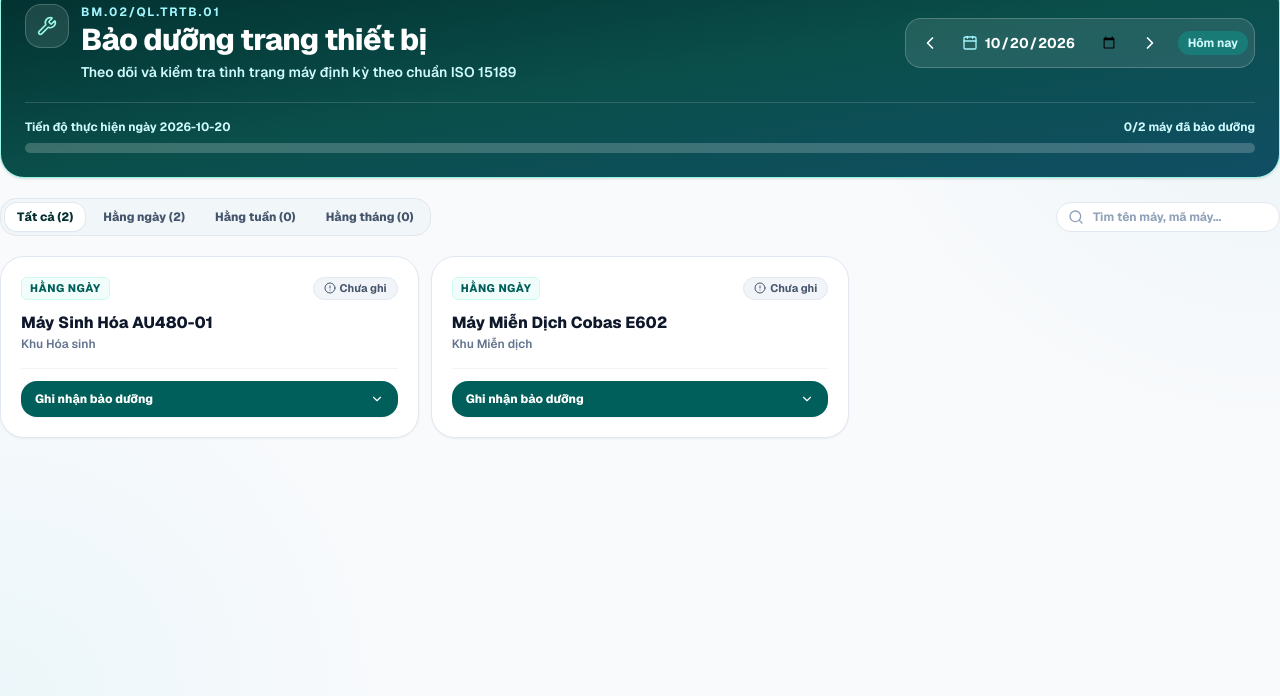
Scenario: TASK 02A.1: Inline Editing & Live Updates for Maintenance (/maintenance) › 5. Strict confirmation: Handles abnormal/null server response without falsely claiming success
The image size is (1280, 696).
Click the button "Ghi nhận bảo dưỡng" below "Khu Hóa sinh": (94, 398) [21,380,398,416]
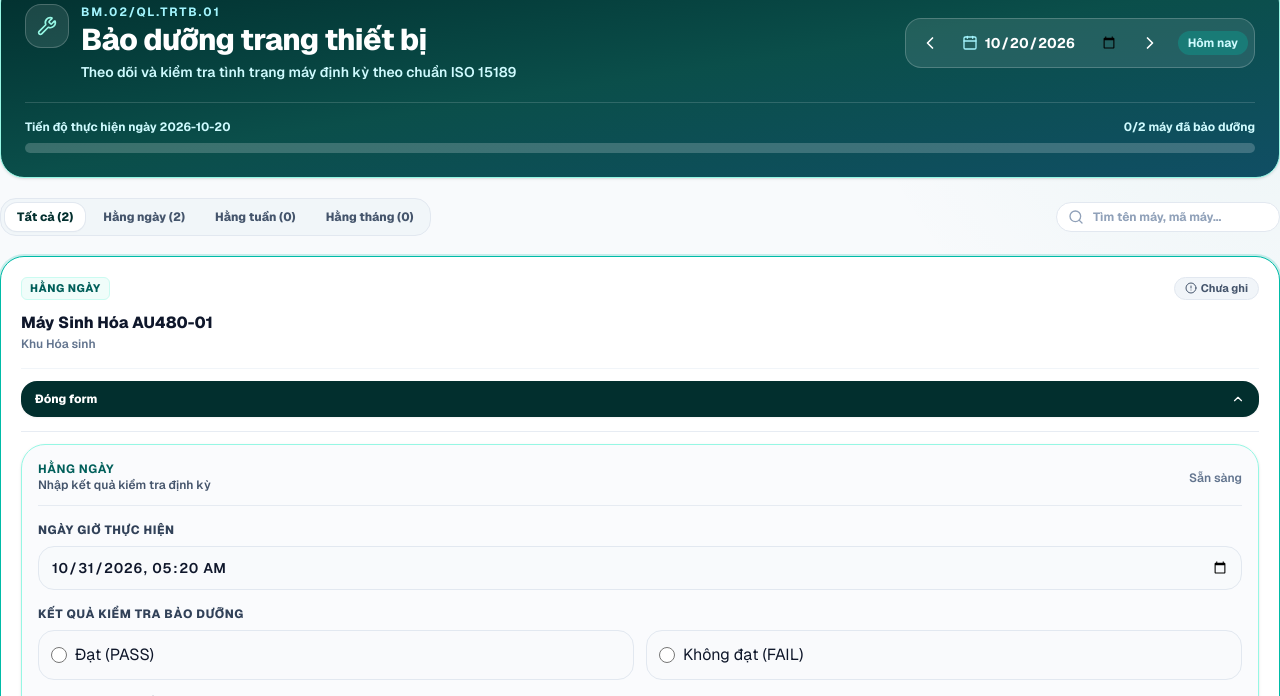
# Fill data
Click the radio button labelled "Đạt (PASS)": (59, 654) [51,646,67,662]
(page scrolled)
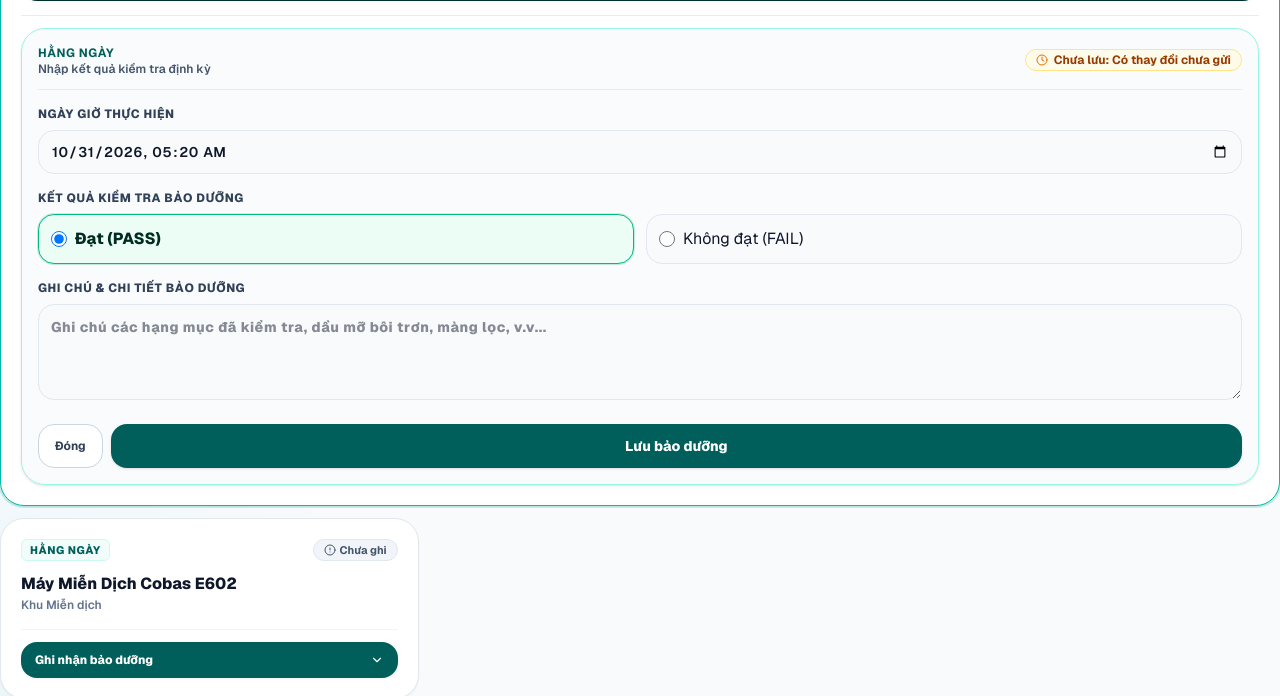
Replace the text in the text box with placeholder "Ghi chú các hạng mục" with "Thử lưu với lỗi phản hồi bất thường": (640, 352) [38,304,1242,400]
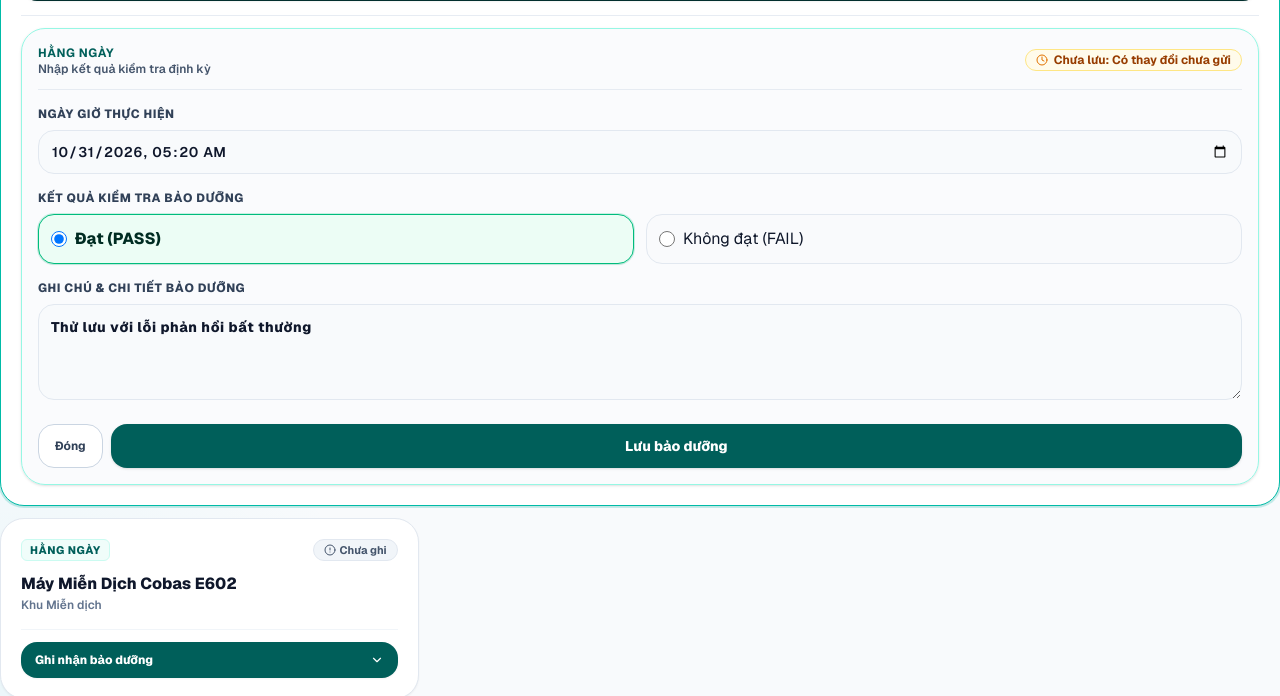
Click the button "Lưu bảo dưỡng": (676, 446) [111,424,1242,468]
(page scrolled)
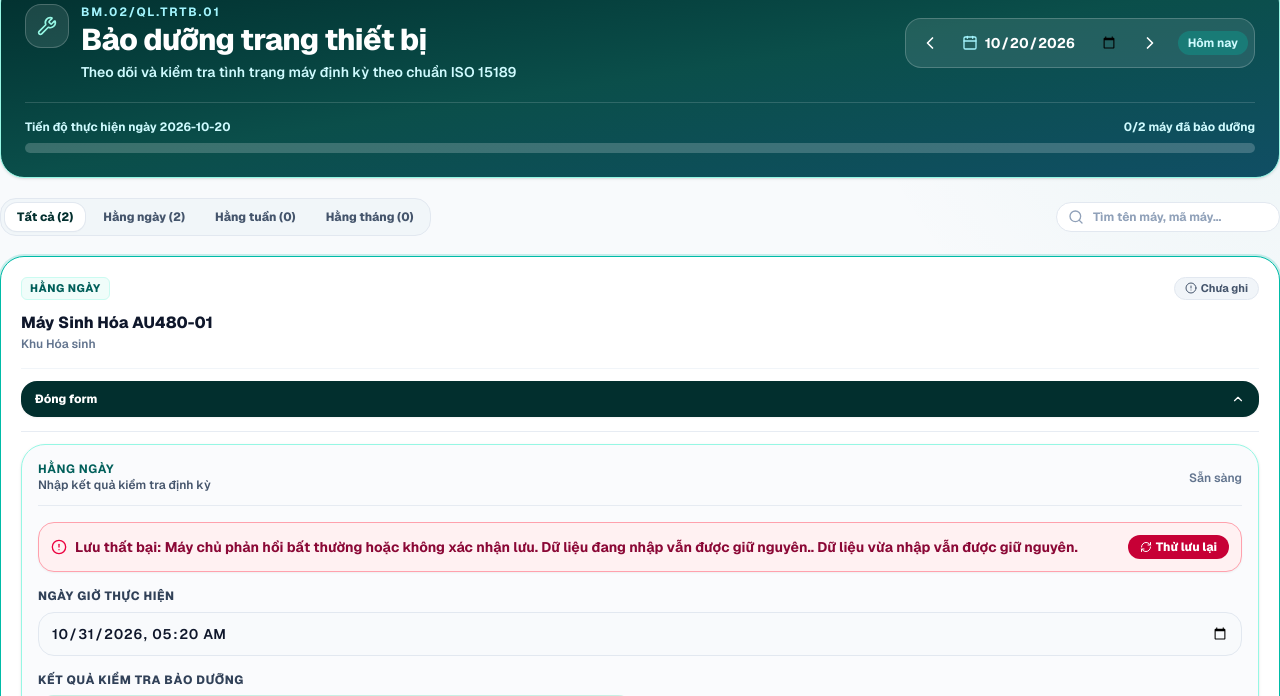
Check: the text "0/2 máy đã bảo dưỡng" is shown, box [1124,119,1255,135]
Check: the message is shown, box [38,522,1242,572]
Check: the text "Máy chủ phản hồi bất thường hoặc không xác nhận lưu" is shown, box [165,538,811,556]
